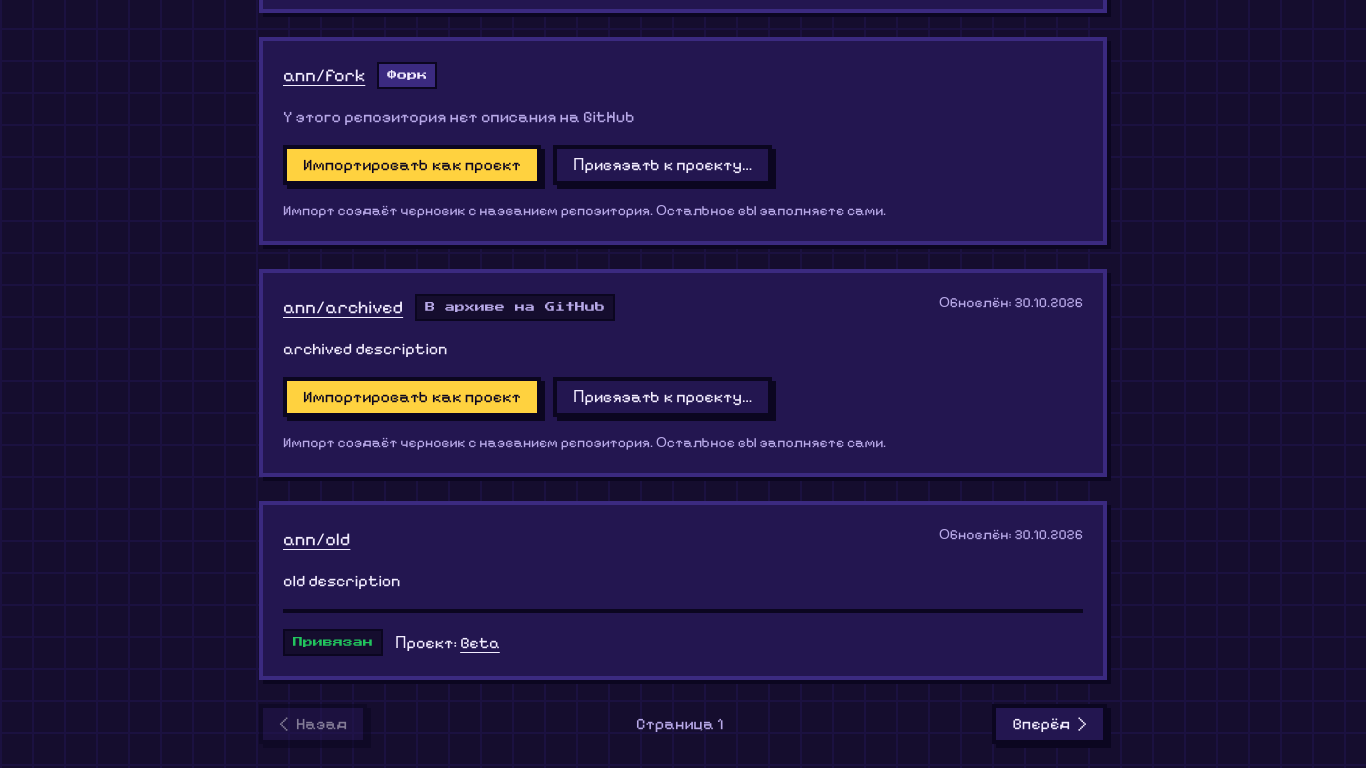
Test: import › sends the repository's own id and moves to the form with the import marker
(page scrolled)
Click the button "Импортировать как проект" below "ann/archived": (412, 397) x1=283 y1=377 x2=541 y2=417
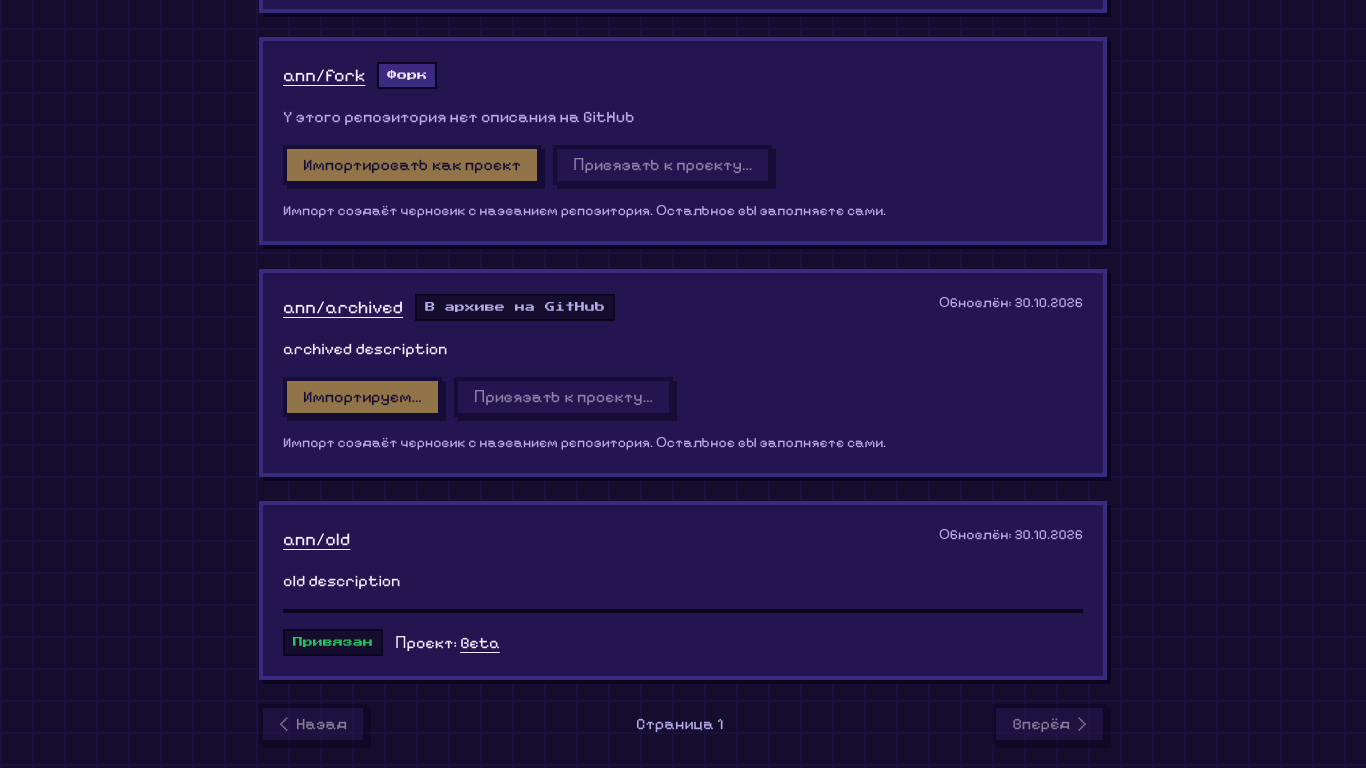
Now the button "Импортируем…" is shown, box x1=283 y1=377 x2=442 y2=417
Now the button "Импортируем…" is disabled, box x1=283 y1=377 x2=442 y2=417
